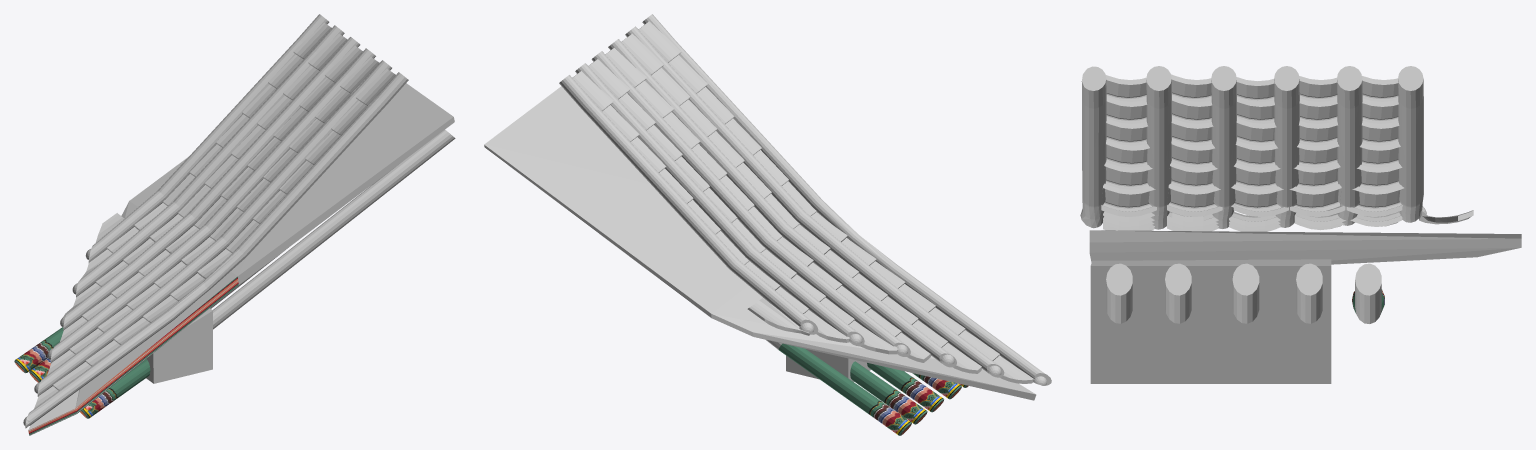
Rendered from SM_R_RoofCornerCut_5.fbx.
3 renders of one model, left to right at view 1: azimuth 30°, elevation 25°; view 2: azimuth 150°, elevation 25°; view 3: azimuth 270°, elevation 25°, orthographic. The views are drawn at different scales.
Parts seen in each view (by area): view 1: SM_R_RoofCornerCut_5_LOD0; view 2: SM_R_RoofCornerCut_5_LOD0; view 3: SM_R_RoofCornerCut_5_LOD0.
Part boxes in pixels (box(x1,y1,x2,y2)): SM_R_RoofCornerCut_5_LOD0: box(14, 14, 455, 435); SM_R_RoofCornerCut_5_LOD0: box(484, 14, 1051, 435); SM_R_RoofCornerCut_5_LOD0: box(1080, 66, 1521, 383).
Size of the model in its own units: 911 by 396 by 547.
